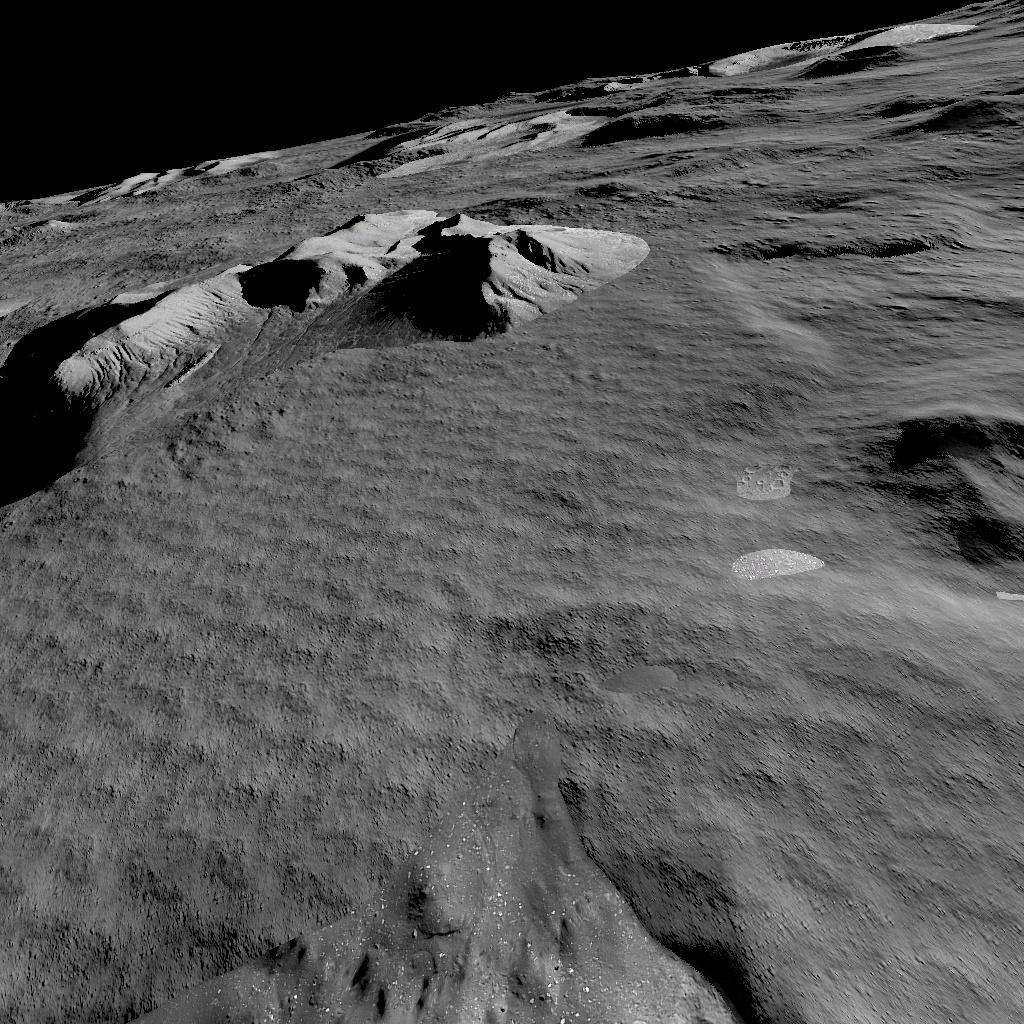Boulders: (0, 212, 648, 518), (338, 0, 1024, 175), (60, 150, 286, 200)
Crater: (0, 878, 1024, 1024), (873, 402, 1024, 582), (704, 232, 942, 268)
Plan surface: (0, 530, 860, 865)
